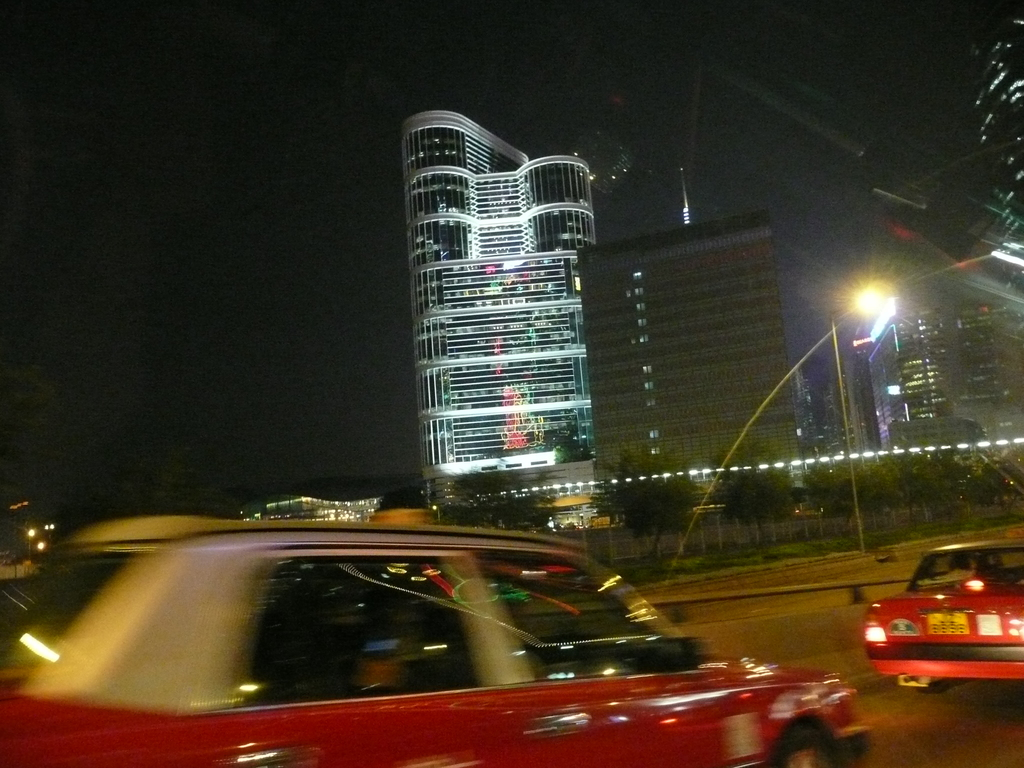Car: (0, 513, 872, 767), (862, 540, 1023, 690)
